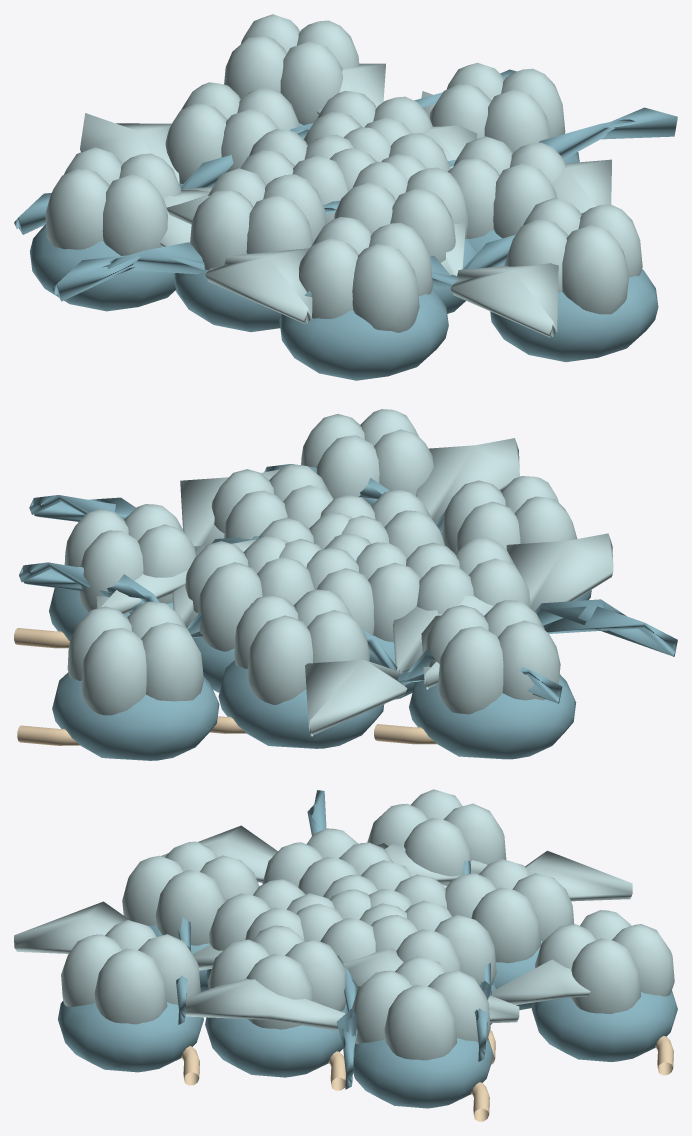
File: bio_oxygen_reef_15_far.glb
3 views of the same model, one above another, from view 1: azimuth 30°, elevation 25°; view 2: azimuth 150°, elevation 25°; view 3: azimuth 270°, elevation 25° (orthographic). The views are drawn at different scales.
Parts seen in each view (by area): view 1: Lobed gas sac.028, Lobed gas sac.036, Lobed gas sac.040, Lobed gas sac.016, Lobed gas sac.044, Photosynthetic cushion.007, Lobed gas sac.032, Lobed gas sac.020, Lobed gas sac.024, Lobed gas sac.008, Photosynthetic cushion.010, Low buttress leaf.009 (+14 smaller); view 2: Lobed gas sac.044, Lobed gas sac.036, Lobed gas sac.024, Photosynthetic cushion.011, Lobed gas sac.032, Lobed gas sac.040, Lobed gas sac.012, Photosynthetic cushion.009, Lobed gas sac.028, Low buttress leaf.005, Lobed gas sac.004, Lobed gas sac.016 (+18 smaller); view 3: Lobed gas sac.040, Lobed gas sac.032, Lobed gas sac.044, Lobed gas sac.028, Lobed gas sac.024, Lobed gas sac.036, Lobed gas sac.020, Photosynthetic cushion.011, Photosynthetic cushion.008, Photosynthetic cushion.010, Lobed gas sac.012, Photosynthetic cushion.005 (+18 smaller).
Boxes of the visible parts, x1=… form: Lobed gas sac.028: x1=299, y1=217, x2=432, y2=332; Lobed gas sac.036: x1=45, y1=147, x2=181, y2=255; Lobed gas sac.040: x1=504, y1=198, x2=642, y2=314; Lobed gas sac.016: x1=190, y1=168, x2=326, y2=270; Lobed gas sac.044: x1=224, y1=14, x2=359, y2=125; Photosynthetic cushion.007: x1=279, y1=288, x2=448, y2=380; Lobed gas sac.032: x1=429, y1=62, x2=565, y2=153; Lobed gas sac.020: x1=448, y1=136, x2=566, y2=238; Lobed gas sac.024: x1=165, y1=82, x2=299, y2=183; Lobed gas sac.008: x1=334, y1=161, x2=468, y2=262; Photosynthetic cushion.010: x1=490, y1=269, x2=658, y2=362; Low buttress leaf.009: x1=441, y1=221, x2=558, y2=337; Lobed gas sac.044: x1=67, y1=601, x2=203, y2=715; Lobed gas sac.036: x1=425, y1=600, x2=560, y2=714; Lobed gas sac.024: x1=234, y1=589, x2=370, y2=704; Photosynthetic cushion.011: x1=52, y1=672, x2=219, y2=760; Lobed gas sac.032: x1=64, y1=504, x2=195, y2=612; Lobed gas sac.040: x1=301, y1=409, x2=433, y2=498; Lobed gas sac.012: x1=185, y1=536, x2=314, y2=651; Photosynthetic cushion.009: x1=409, y1=674, x2=576, y2=759; Lobed gas sac.028: x1=442, y1=476, x2=577, y2=553; Low buttress leaf.005: x1=305, y1=595, x2=493, y2=736; Lobed gas sac.004: x1=306, y1=542, x2=420, y2=642; Lobed gas sac.016: x1=406, y1=537, x2=530, y2=613; Lobed gas sac.040: x1=61, y1=920, x2=200, y2=1024; Lobed gas sac.032: x1=352, y1=956, x2=490, y2=1060; Lobed gas sac.044: x1=535, y1=910, x2=674, y2=1013; Lobed gas sac.028: x1=122, y1=841, x2=259, y2=945; Lobed gas sac.024: x1=445, y1=859, x2=574, y2=963; Lobed gas sac.036: x1=367, y1=789, x2=506, y2=885; Lobed gas sac.020: x1=208, y1=925, x2=345, y2=1029; Photosynthetic cushion.011: x1=531, y1=990, x2=677, y2=1061; Photosynthetic cushion.008: x1=353, y1=1038, x2=493, y2=1108; Photosynthetic cushion.010: x1=58, y1=1001, x2=203, y2=1072; Lobed gas sac.012: x1=371, y1=900, x2=496, y2=985; Photosynthetic cushion.005: x1=205, y1=1007, x2=347, y2=1077.
Bounding box in the file's own units: 2.22 × 0.4497 × 2.18.
